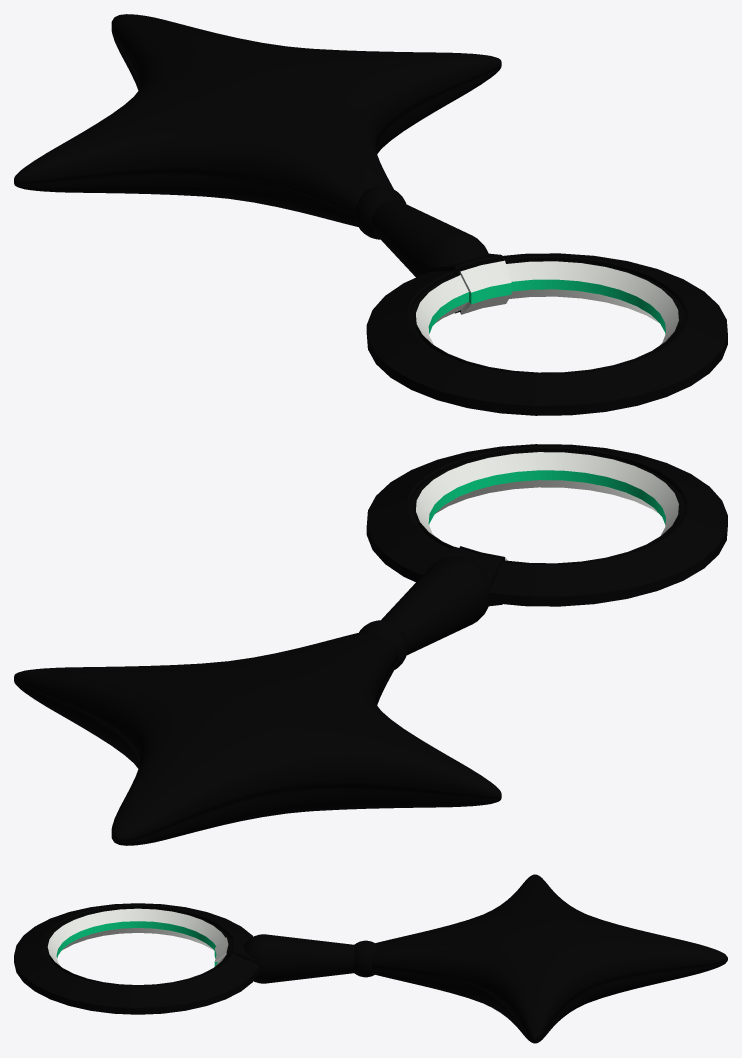
Rendered from drone2.fbx.
3 renders of one model, top to bottom at view 1: azimuth 30°, elevation 25°; view 2: azimuth 150°, elevation 25°; view 3: azimuth 270°, elevation 25°, orthographic. The views are drawn at different scales.
Parts seen in each view (by area): view 1: 平面.001, 円.007, 球.019, 円.008, 球.018; view 2: 平面.001, 円.007, 球.019, 円.008, 球.018; view 3: 平面.001, 円.007, 球.019, 球.018, 円.008.
Boxes of the visible parts, bbox=[...] form: 平面.001: bbox=[14, 14, 501, 226]; 円.007: bbox=[366, 253, 727, 415]; 球.019: bbox=[371, 200, 488, 277]; 円.008: bbox=[426, 253, 511, 314]; 球.018: bbox=[355, 186, 406, 239]; 平面.001: bbox=[14, 632, 501, 845]; 円.007: bbox=[366, 444, 727, 606]; 球.019: bbox=[381, 556, 489, 655]; 円.008: bbox=[444, 546, 507, 606]; 球.018: bbox=[359, 620, 407, 669]; 平面.001: bbox=[371, 874, 727, 1043]; 円.007: bbox=[14, 903, 259, 1014]; 球.019: bbox=[243, 934, 354, 983]; 球.018: bbox=[354, 940, 377, 977]; 円.008: bbox=[214, 935, 261, 975].
Size of the model in its own units: 1555 by 293 by 2878.
